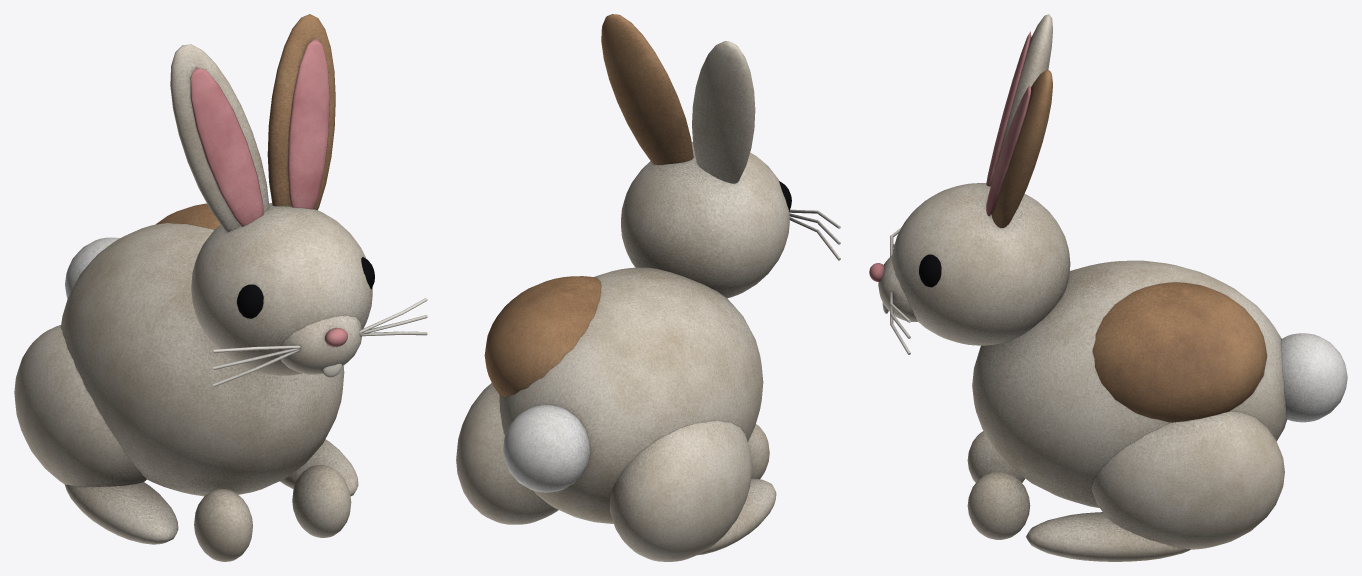
File: pet_coelho.glb
The picture shows the model from 3 angles, left to right: view 1: azimuth 30°, elevation 25°; view 2: azimuth 150°, elevation 25°; view 3: azimuth 270°, elevation 25°; orthographic projection. The views are drawn at different scales.
Visible parts, largest first — view 1: corpo, cabeca; view 2: corpo, cabeca; view 3: corpo, cabeca.
Part boxes in pixels (x1=…): corpo: x1=14, y1=203, x2=358, y2=561; cabeca: x1=170, y1=14, x2=427, y2=386; corpo: x1=456, y1=267, x2=776, y2=561; cabeca: x1=601, y1=14, x2=840, y2=298; corpo: x1=967, y1=260, x2=1347, y2=561; cabeca: x1=869, y1=14, x2=1070, y2=354.
Bounding box in the file's own units: 0.34 × 0.5825 × 0.535.
1 material, 1 textured.
